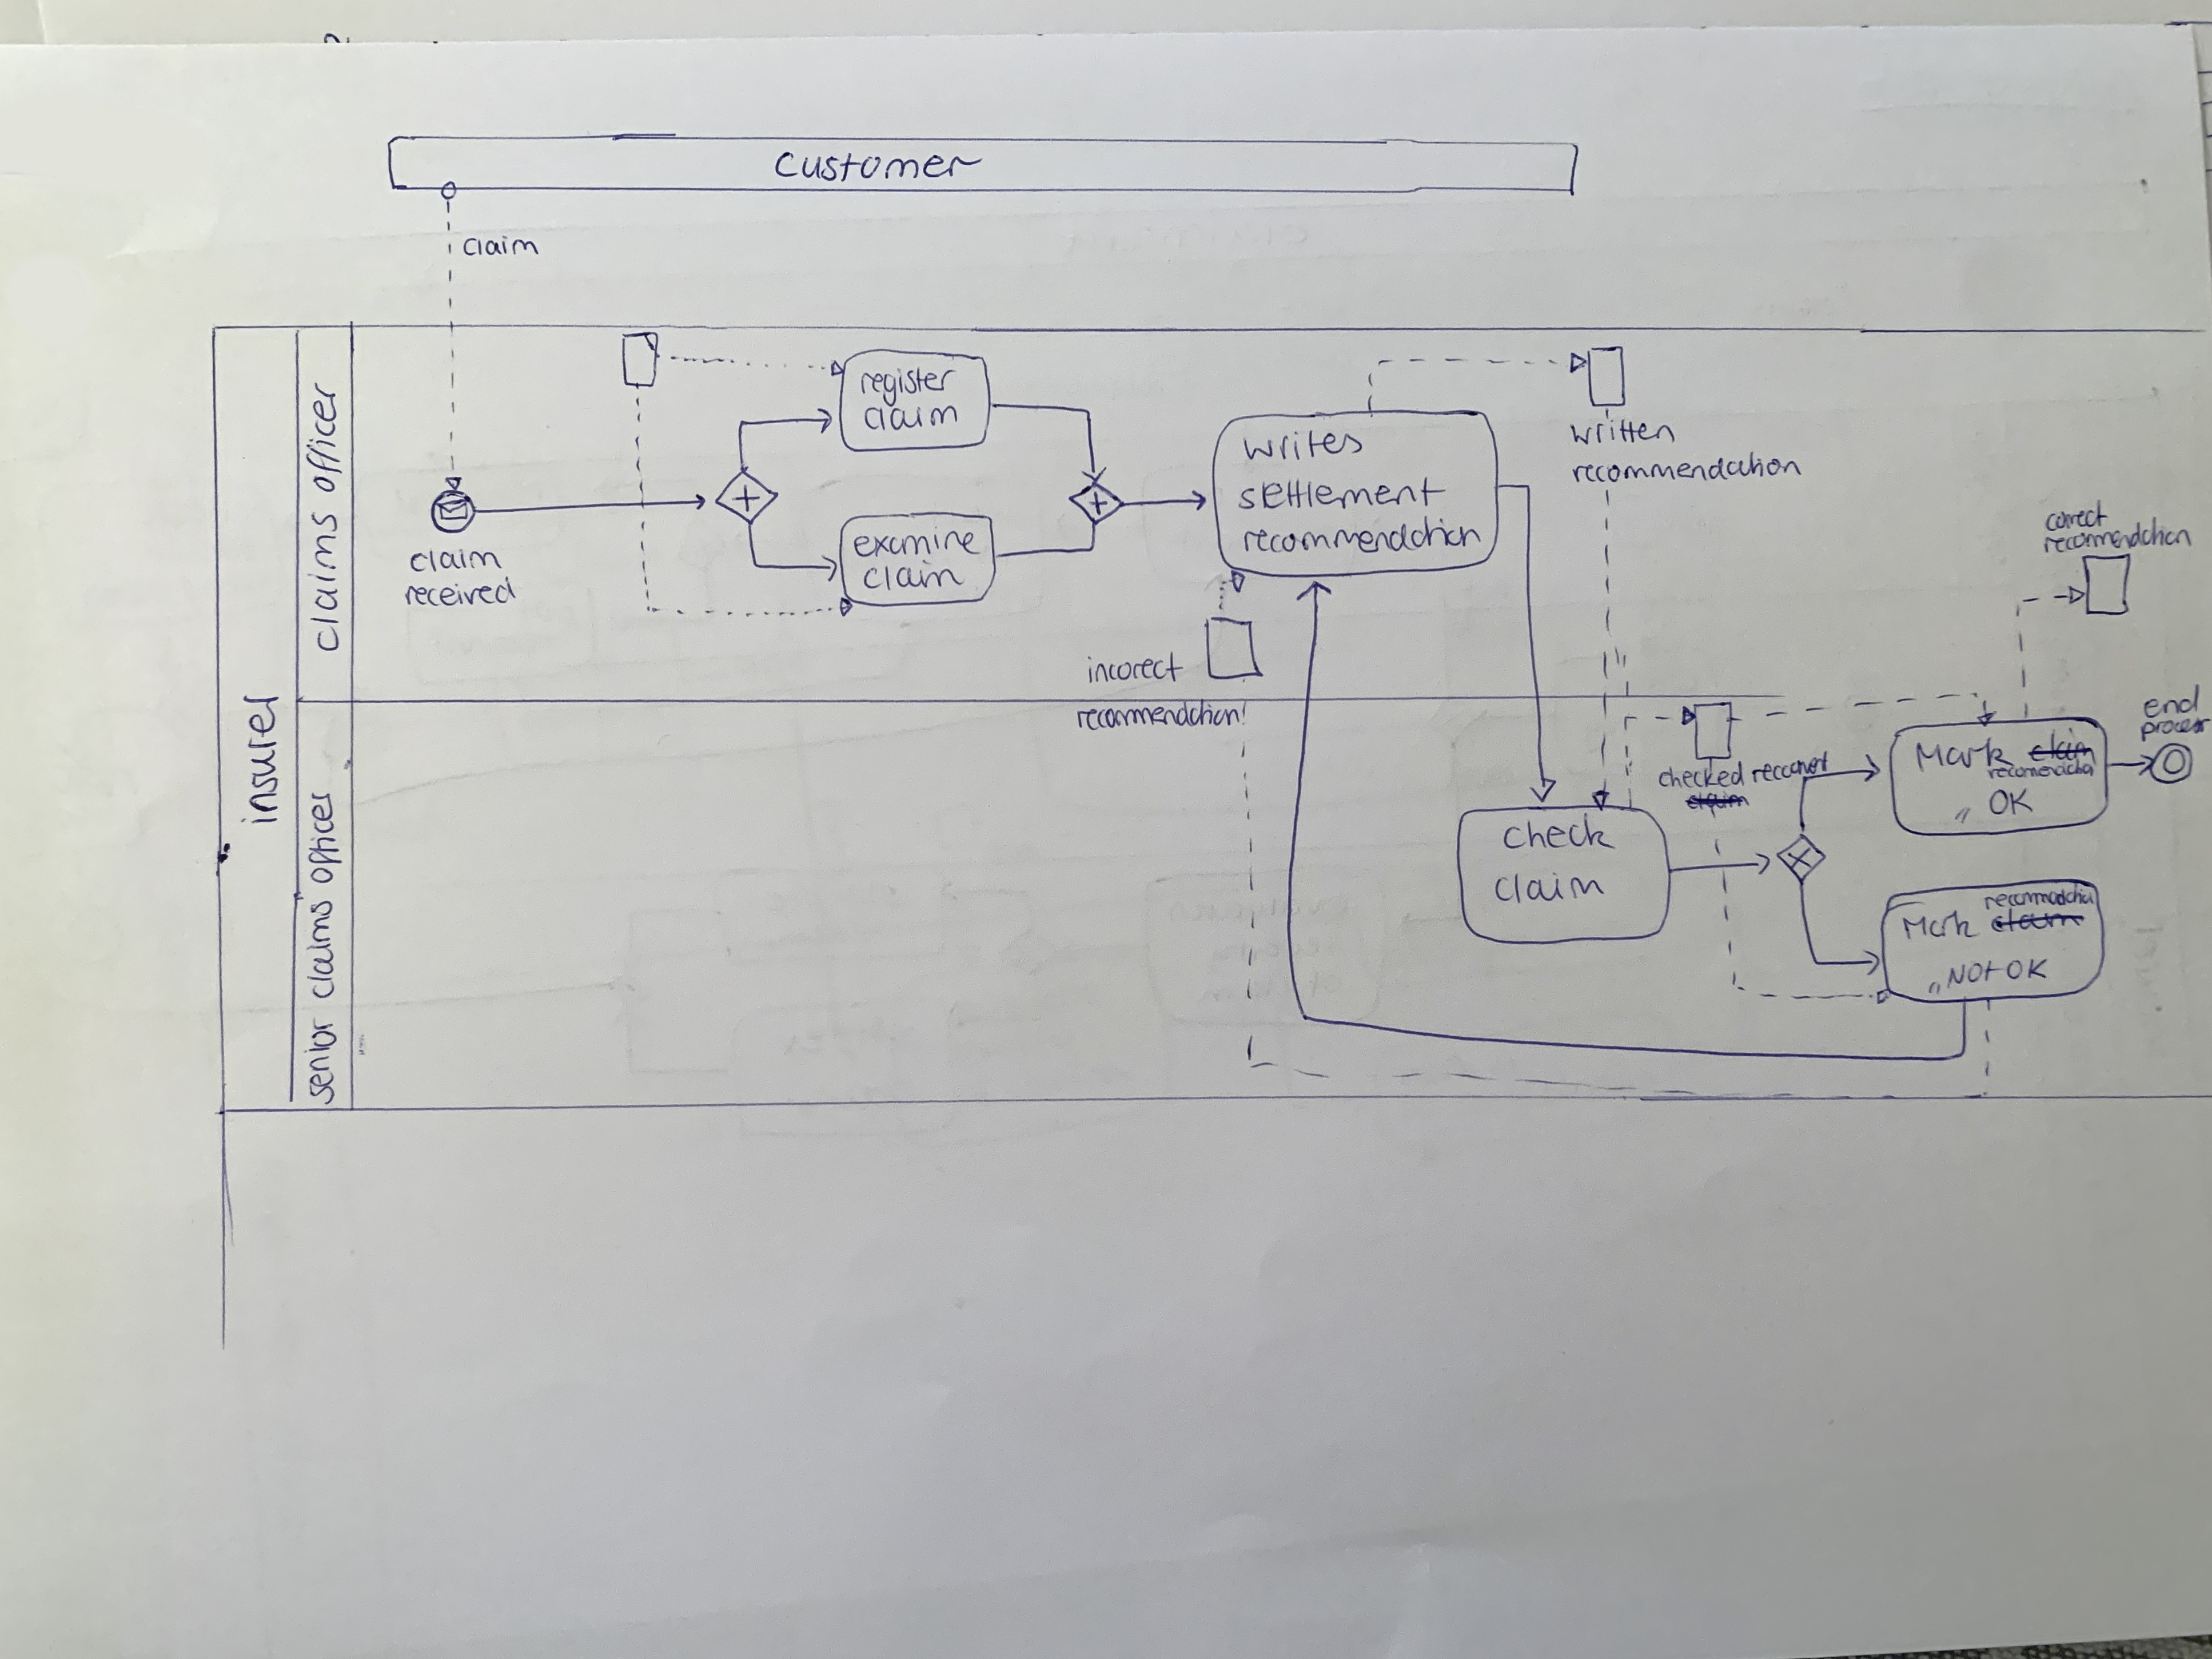Mark: (1911, 732, 2019, 777), (1898, 906, 1986, 943)
NOT OK: (1925, 953, 2054, 999)
OK: (1949, 782, 2038, 828)
check: (1498, 807, 1620, 854)
checked: (1655, 753, 1749, 793)
claim: (1489, 868, 1611, 908), (857, 556, 972, 596), (857, 401, 965, 437), (402, 542, 507, 577), (456, 230, 545, 263)
claims: (301, 504, 347, 659), (301, 896, 341, 1002)
correct: (2041, 495, 2113, 535)
customer: (768, 143, 989, 186)
end: (2141, 680, 2205, 723)
examine: (848, 521, 988, 565)
incorect: (1083, 647, 1188, 688)
insurer: (232, 688, 287, 831)
officer: (301, 376, 350, 498), (301, 786, 348, 889)
process: (2137, 713, 2212, 748)
received: (399, 572, 523, 612)
recomendation: (1982, 756, 2097, 782)
recoment: (1747, 748, 1832, 786)
recommendation: (1237, 511, 1487, 559), (1564, 444, 1808, 490), (2038, 512, 2196, 558), (1073, 694, 1244, 734), (1979, 880, 2099, 915)
register: (857, 359, 961, 413)
senior: (298, 1012, 341, 1108)
settlement: (1231, 471, 1453, 516)
writes: (1235, 423, 1369, 465)
written: (1564, 415, 1681, 450)
